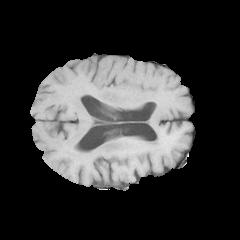glioma: (76, 135, 164, 161)
